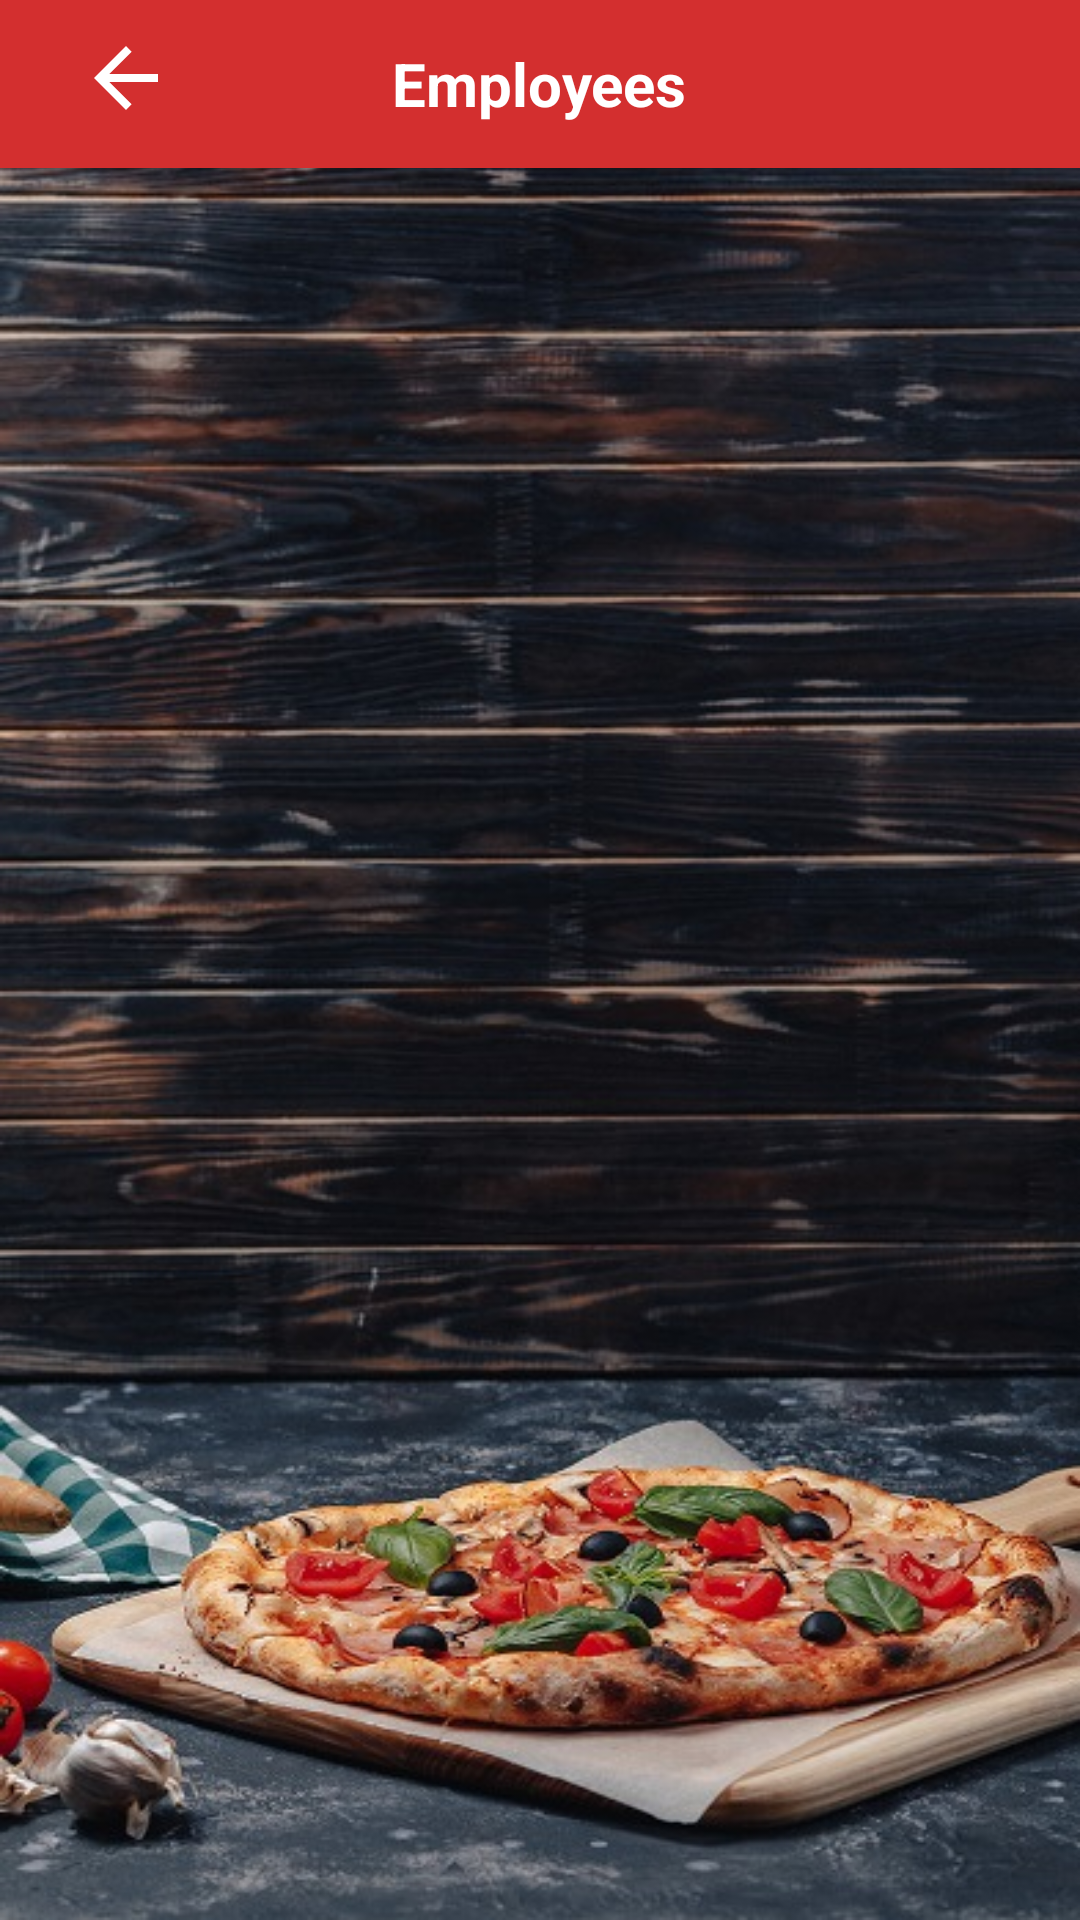

Locate icon controls on the screen. Image size 1080 x 1920, boxes as (x1, y1, x2, y2).
back arrow: (94, 46, 158, 110)
